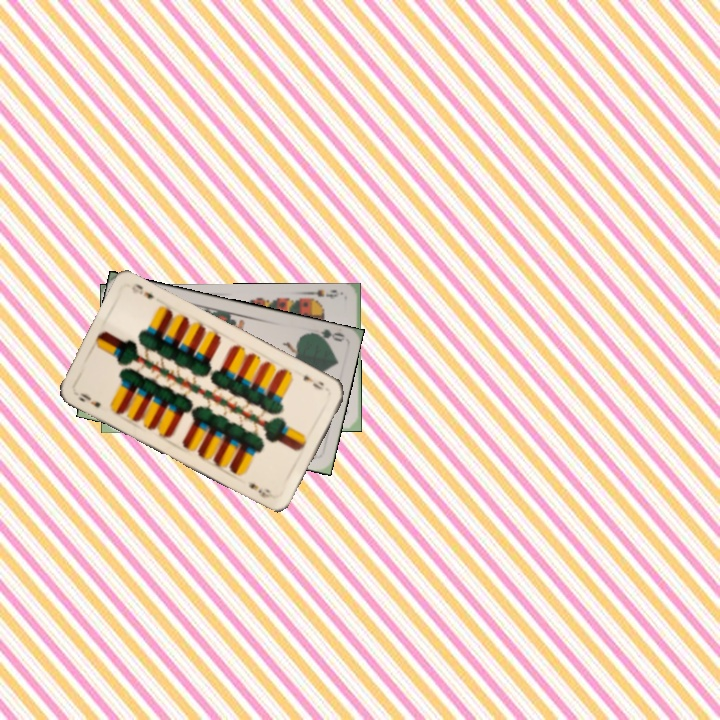E9: (75, 389, 103, 410), (299, 371, 326, 392)
GO: (304, 325, 346, 346)
S9: (304, 286, 344, 306)
